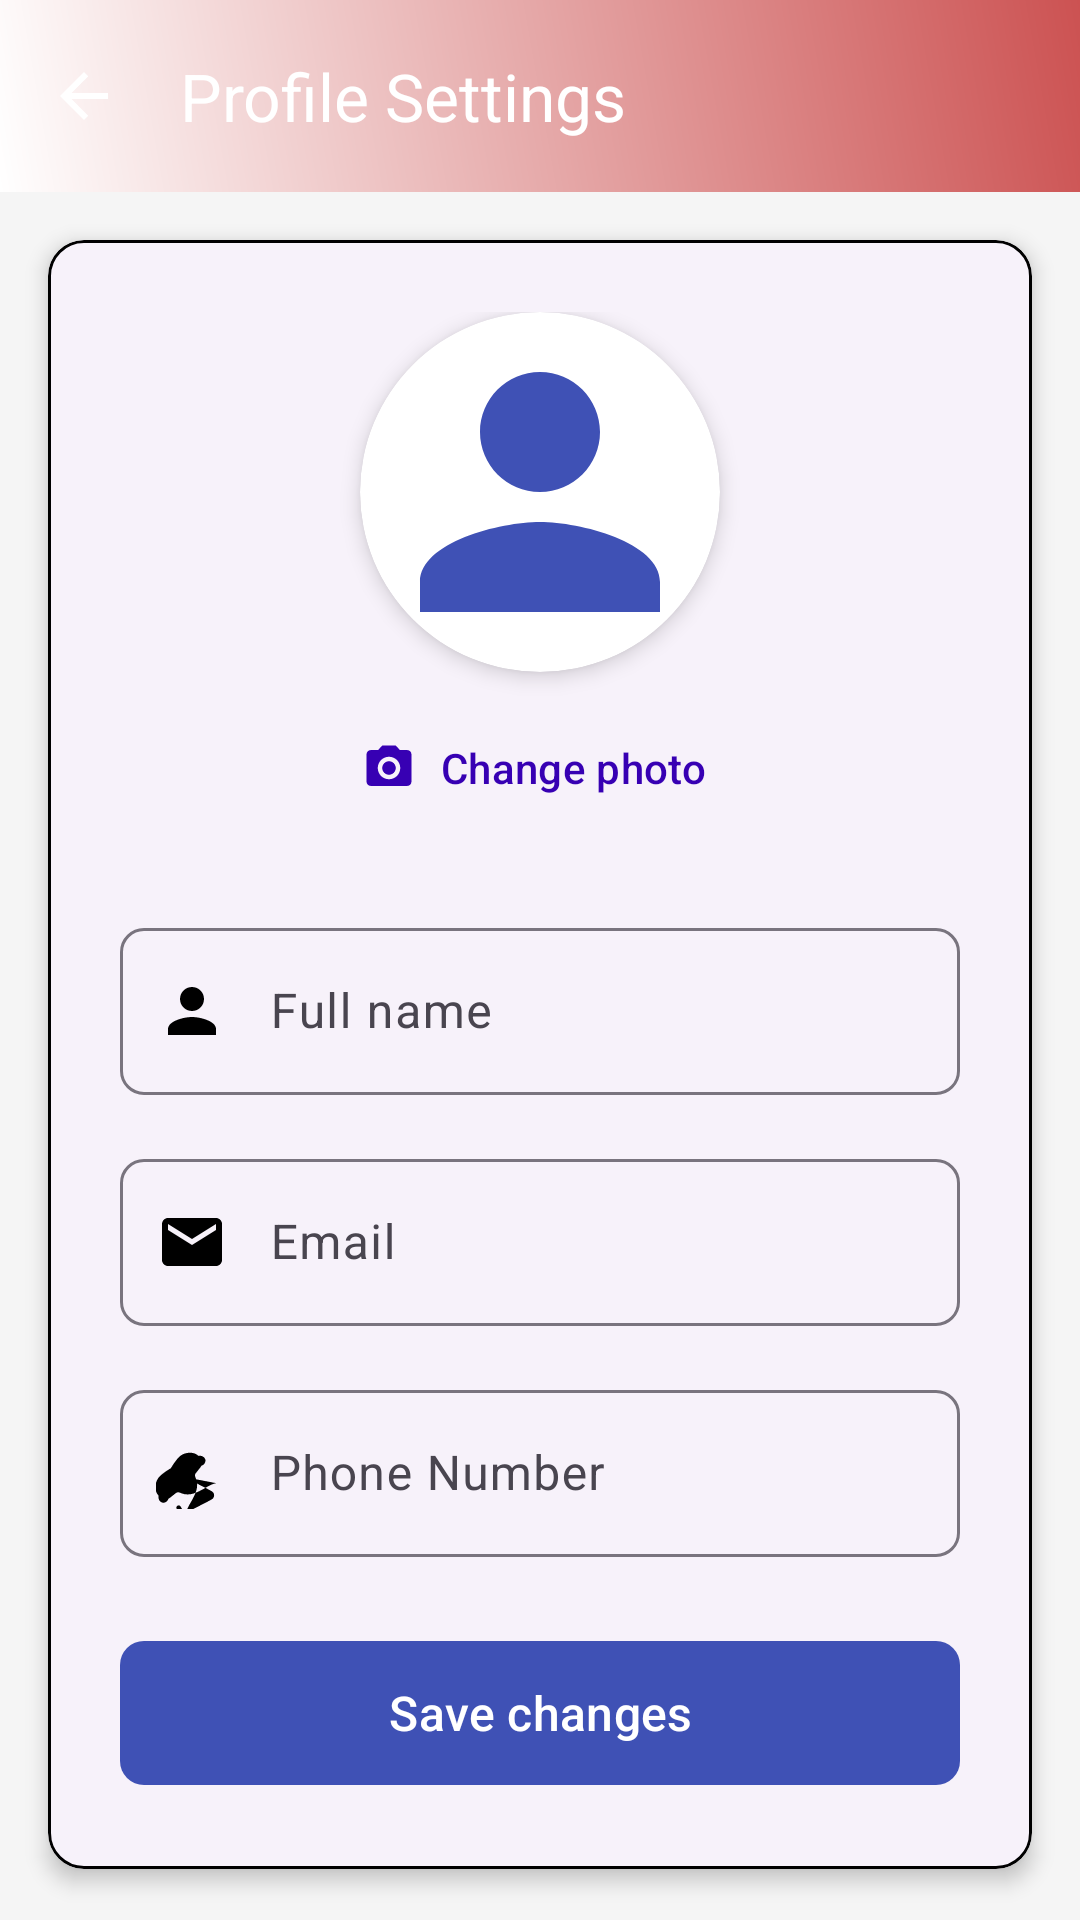

Where icons sit on this 1080px×1920px app screen, as (x1, y1, x2, y2):
Profile picture: (360, 312, 720, 672)
